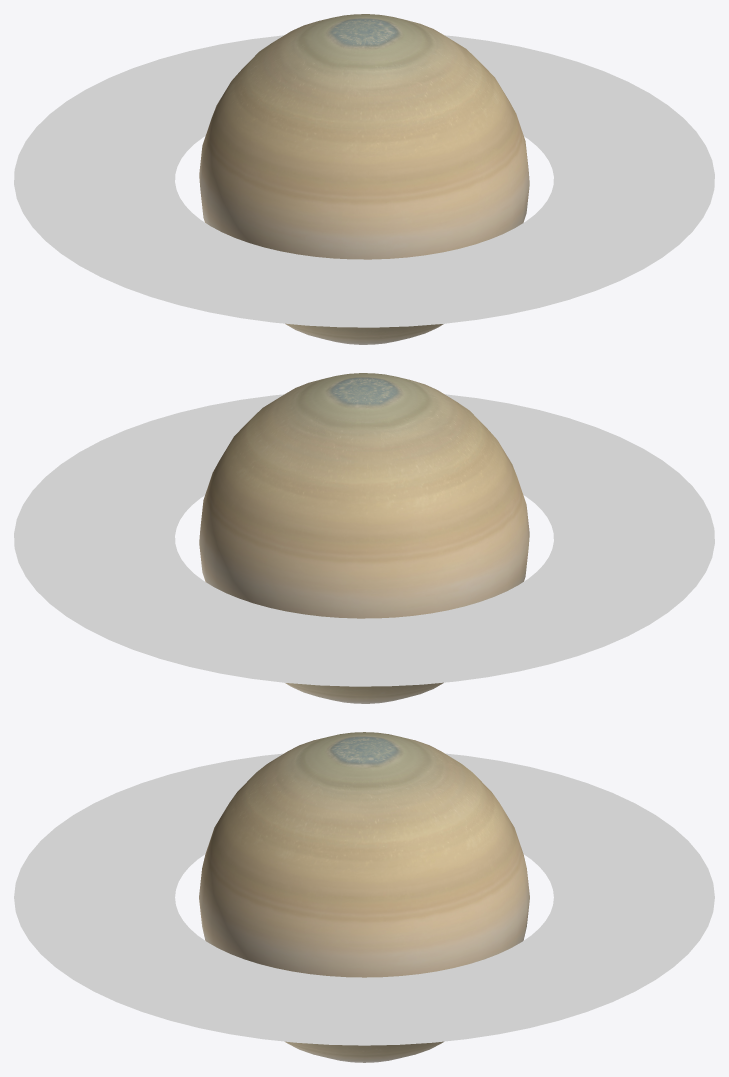
File: Saturn_rings.glb
The picture shows the model from 3 angles, top to bottom: view 1: azimuth 30°, elevation 25°; view 2: azimuth 150°, elevation 25°; view 3: azimuth 270°, elevation 25°; orthographic projection.
Parts seen in each view (by area): view 1: Circle, Sphere; view 2: Circle, Sphere; view 3: Circle, Sphere.
Part boxes in pixels (x1=…): Circle: x1=14, y1=35, x2=714, y2=327; Sphere: x1=199, y1=14, x2=529, y2=344; Circle: x1=14, y1=394, x2=714, y2=686; Sphere: x1=199, y1=373, x2=529, y2=703; Circle: x1=14, y1=753, x2=714, y2=1045; Sphere: x1=199, y1=732, x2=529, y2=1062.
Bounding box in the file's own units: 4.23 × 2 × 4.23.
1 material, 1 textured.
